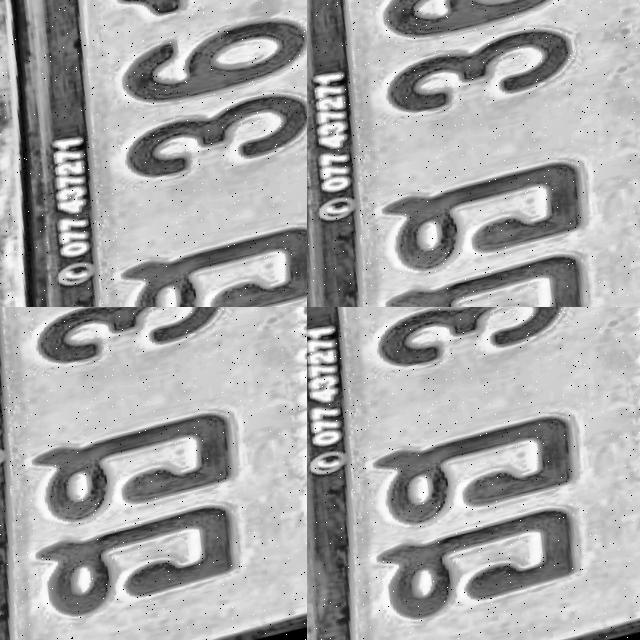license-plate: (307, 307, 640, 640), (307, 241, 464, 307)
